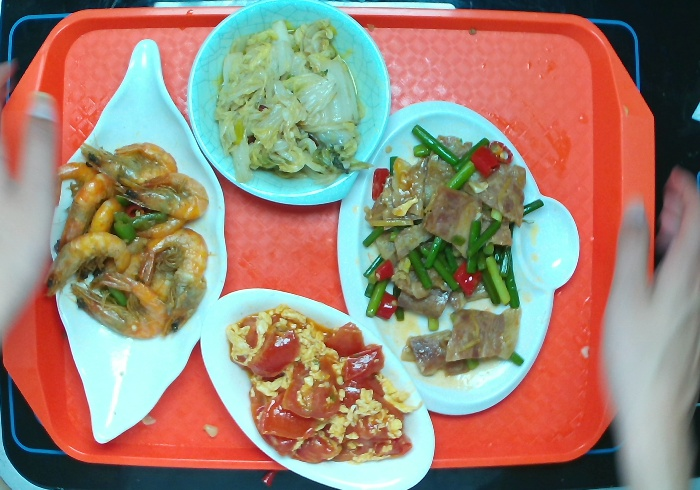RJxy-Bai_Se_Tuo_Yuan: (194, 286, 434, 490)
RJxy-Shu_Ye_Pan: (50, 32, 232, 449)
RJxy-Xiao_Jiao_Yuan_Wan: (184, 1, 394, 208)
RJxy-Zhan_Liao_Pan: (332, 97, 584, 419)
